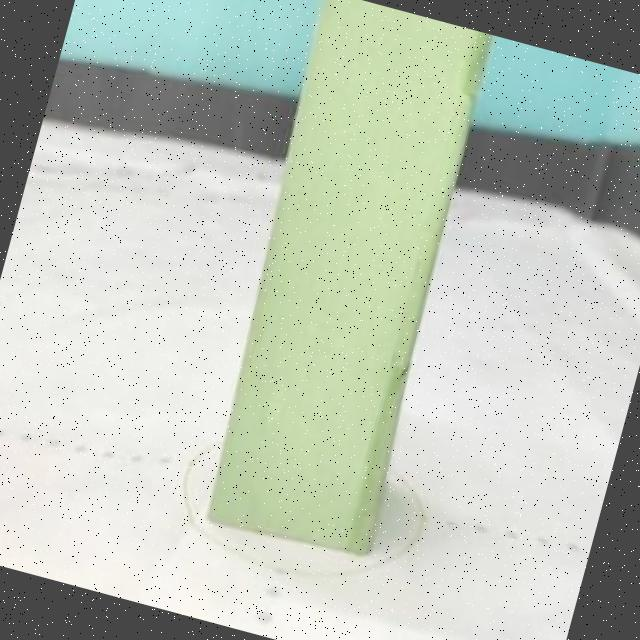greenbox: (184, 0, 510, 559)
